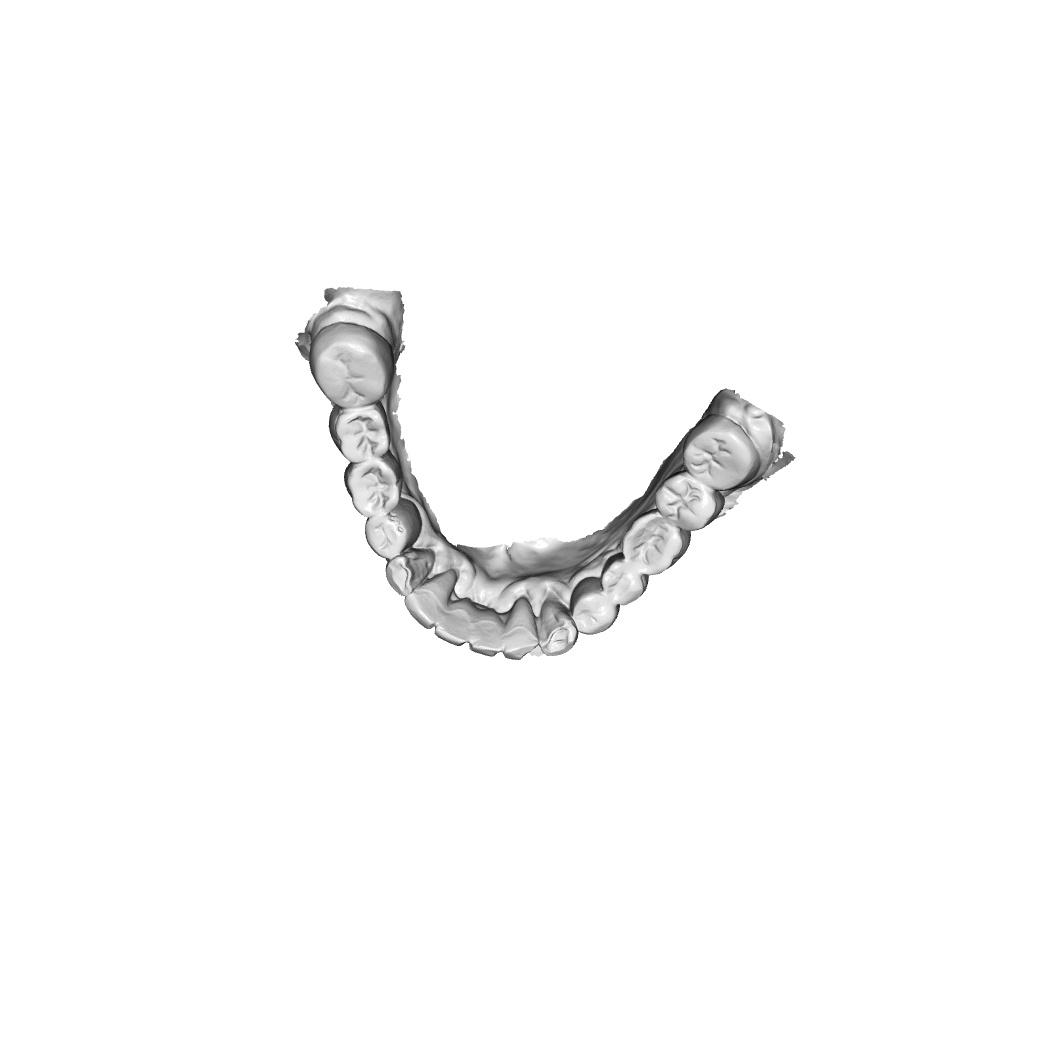canine: (384, 547, 435, 598), (538, 597, 579, 658)
incisor: (404, 569, 457, 631), (501, 595, 540, 662), (433, 595, 473, 648), (468, 607, 502, 658)
molar: (307, 320, 395, 410), (682, 413, 761, 491), (621, 506, 693, 576), (654, 470, 726, 532), (327, 398, 392, 464)
premolar: (343, 449, 404, 519), (363, 495, 423, 562), (569, 576, 620, 636), (599, 552, 650, 606)
